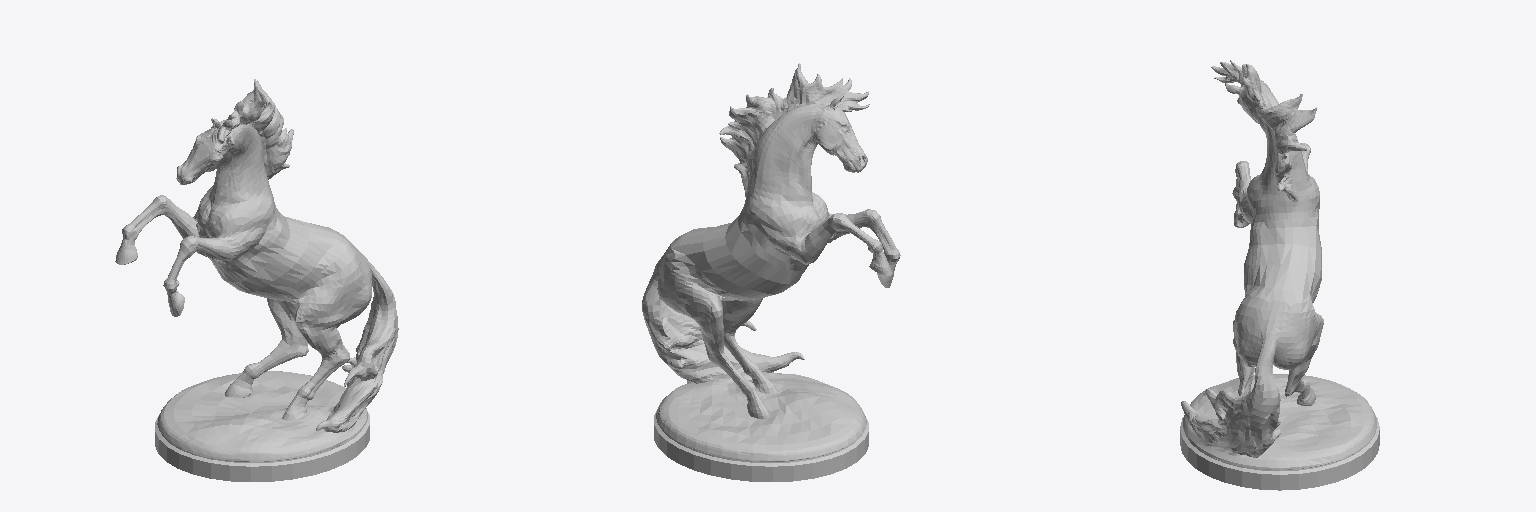
Rendered from horse_statue_01_1k.obj.
3 renders of one model, left to right at view 1: azimuth 30°, elevation 25°; view 2: azimuth 150°, elevation 25°; view 3: azimuth 270°, elevation 25°, orthographic.
Visible parts, largest first — view 1: horse_statue_01; view 2: horse_statue_01; view 3: horse_statue_01.
Part boxes in pixels (x1,y1,x2,y2): horse_statue_01: (115, 79, 398, 481); horse_statue_01: (642, 63, 900, 481); horse_statue_01: (1180, 60, 1379, 490).
Bounding box in the file's own units: 1.15 × 1.54 × 0.7545.